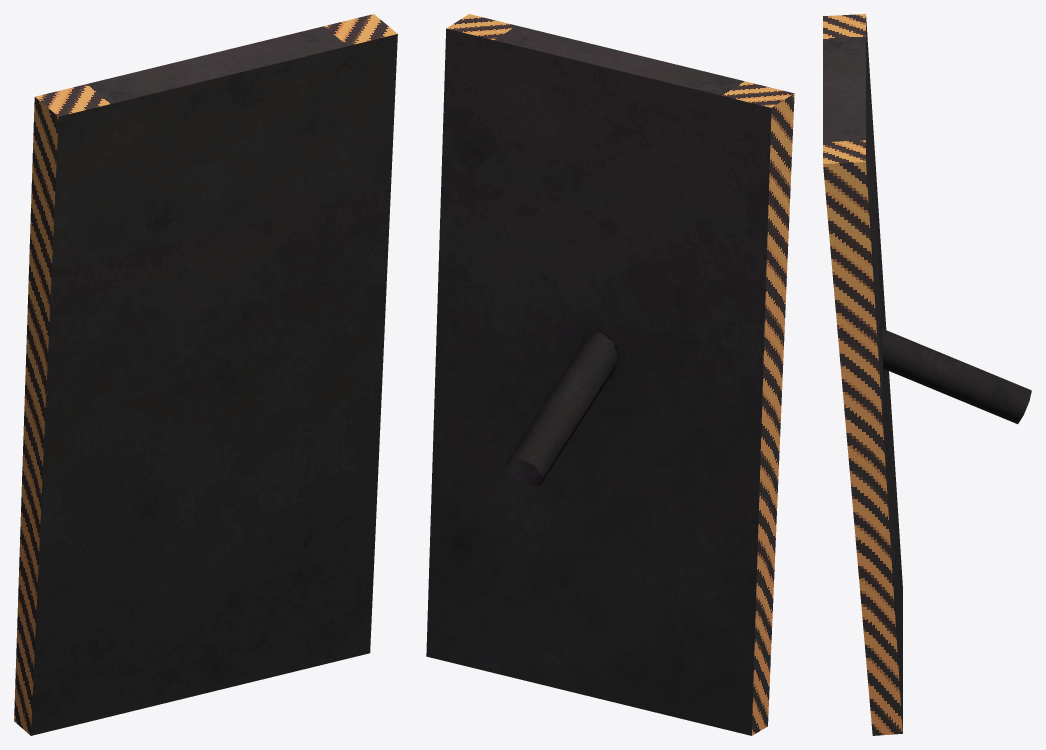
3 renders of one model, left to right at view 1: azimuth 30°, elevation 25°; view 2: azimuth 150°, elevation 25°; view 3: azimuth 270°, elevation 25°, orthographic. The views are drawn at different scales.
Parts seen in each view (by area): view 1: 3; view 2: 3; view 3: 3.
Boxes of the visible parts, left/top/right/bottom form: 3: left=14, top=14, right=397, bottom=735; 3: left=426, top=14, right=794, bottom=735; 3: left=823, top=14, right=1031, bottom=735.
Bounding box in the file's own units: 1.76 × 3.19 × 1.05.
Materials: 1 (1 with a texture image).
